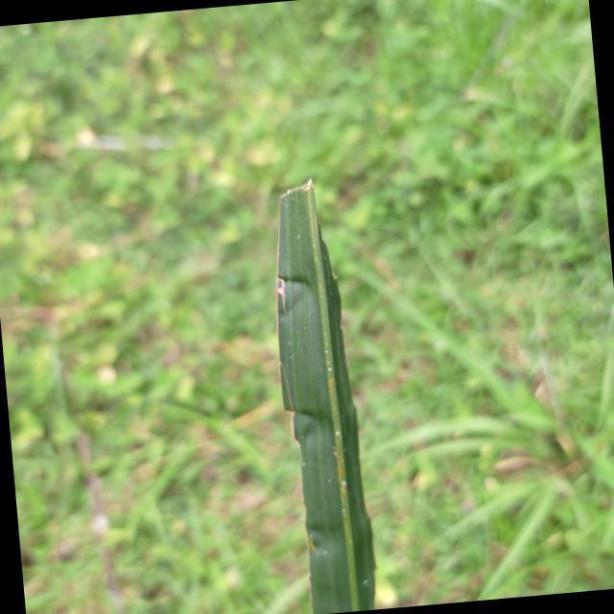Boron: (273, 169, 376, 614)
